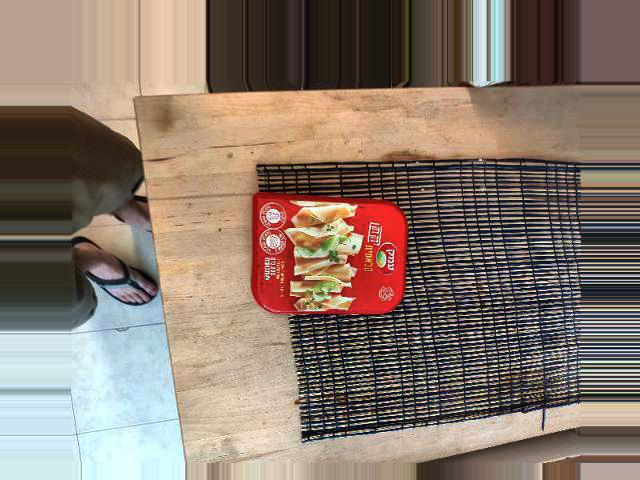cheese: (304, 260, 429, 450)
